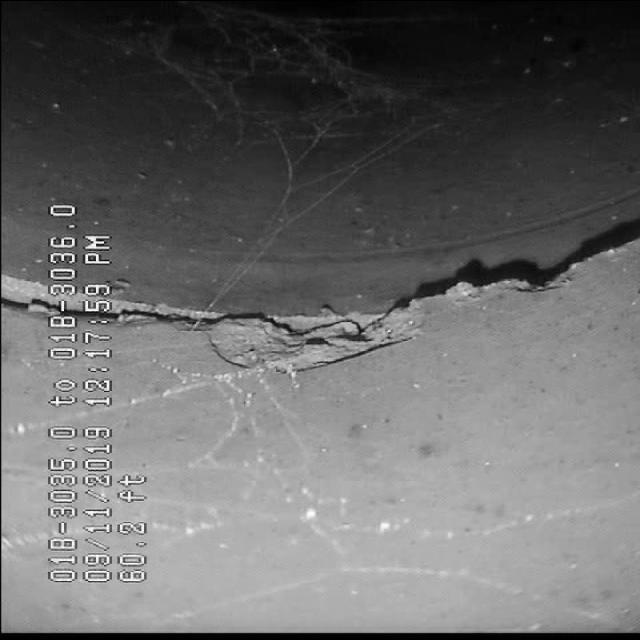Fracture: (136, 216, 608, 374)
